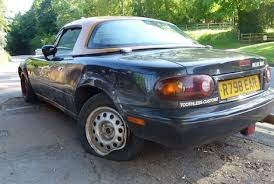Dent: (66, 64, 158, 114)
